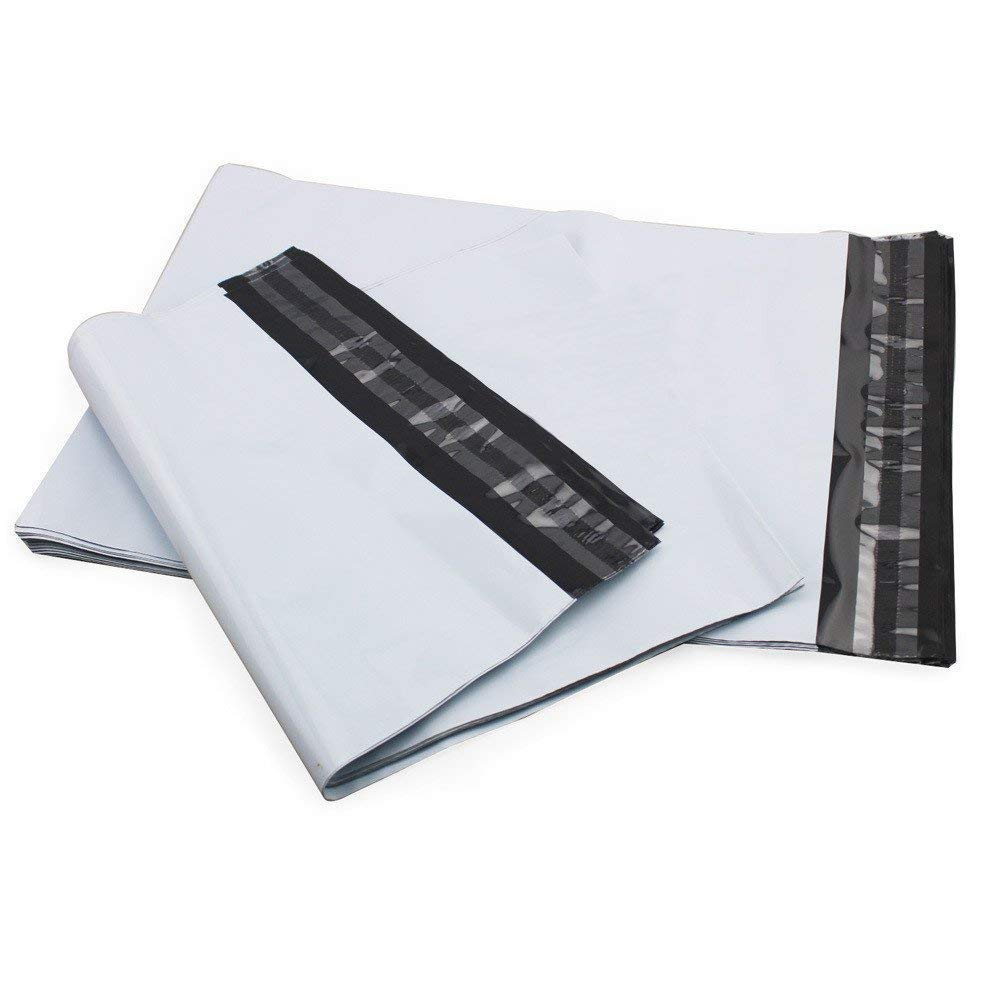Parcel: (16, 166, 956, 798)
